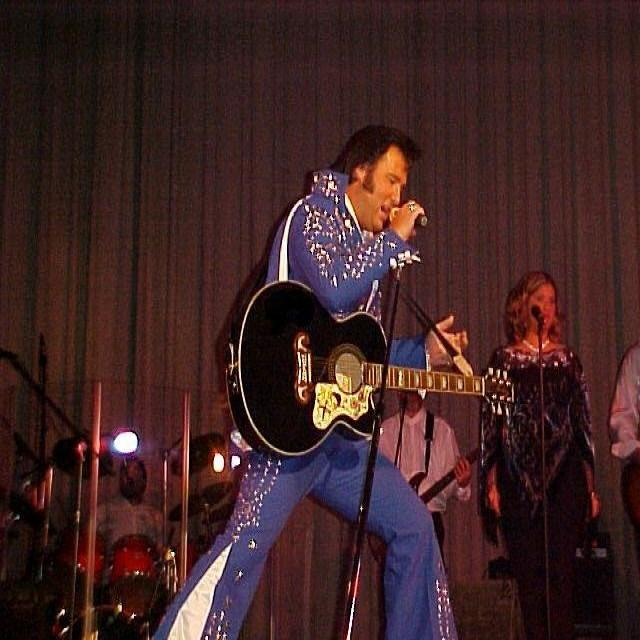drums: (0, 414, 267, 640)
guitar: (220, 276, 518, 458), (404, 446, 487, 516)
